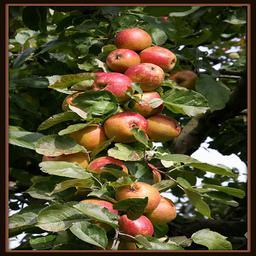apple: (113, 182, 160, 210), (105, 112, 148, 141), (91, 72, 132, 101), (124, 62, 165, 91), (71, 124, 110, 152), (139, 45, 176, 69), (146, 115, 181, 140), (115, 27, 151, 50), (130, 90, 163, 115), (118, 213, 153, 236), (107, 49, 140, 70)
